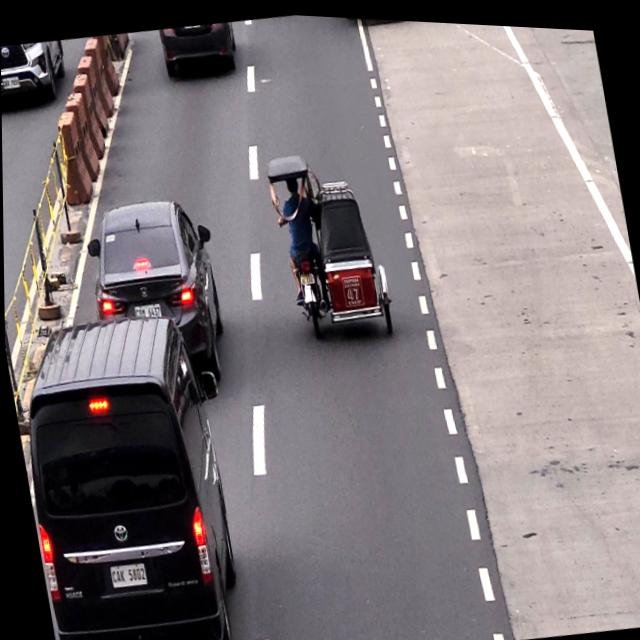Car: (4, 308, 238, 640), (79, 185, 219, 325)
License-Plate: (107, 558, 146, 591), (134, 297, 161, 319)
Tricycle: (263, 141, 403, 354)
